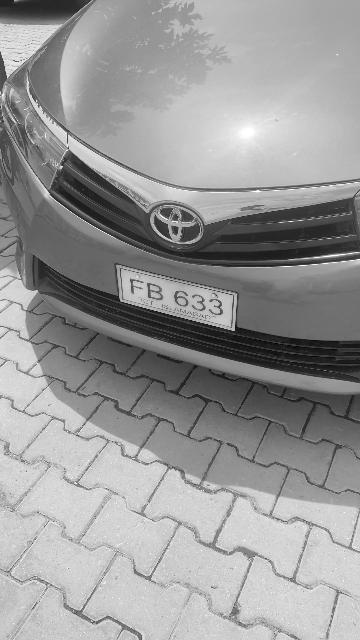Number: (127, 275, 226, 319)
